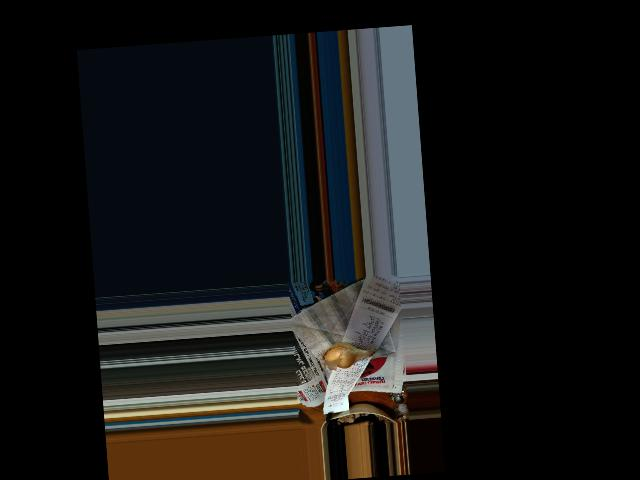onion: (322, 341, 367, 366)
